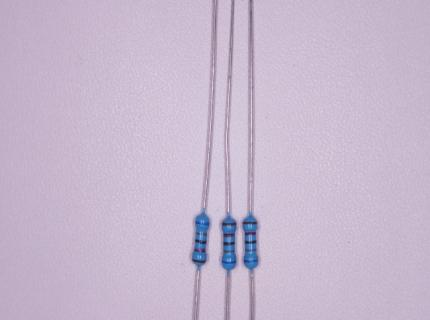Black band: (195, 239, 206, 244), (223, 242, 235, 246), (244, 240, 256, 244)
Blue band: (195, 221, 210, 225), (221, 260, 236, 264), (244, 259, 258, 263)
Brown band: (192, 258, 206, 263), (242, 221, 258, 225), (222, 222, 236, 226)
Grey band: (195, 232, 207, 236), (245, 249, 257, 252), (223, 250, 235, 253)
Red band: (193, 248, 206, 253), (223, 233, 235, 237), (244, 232, 256, 236)
